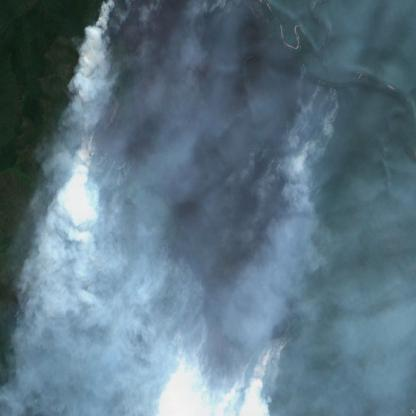fire: (246, 73, 344, 192), (62, 121, 104, 181), (241, 335, 300, 372), (85, 0, 125, 28)
